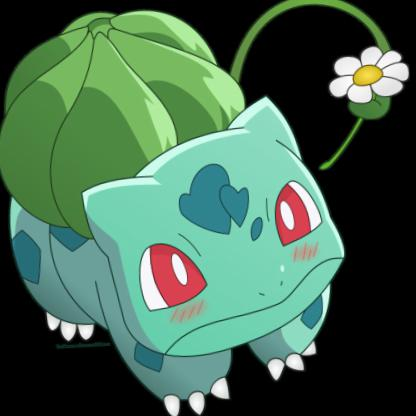Bulbasaur: (1, 7, 416, 416)
